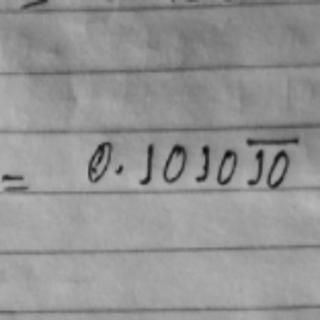.: (111, 164, 126, 178)
0: (87, 140, 111, 181), (215, 150, 240, 187), (267, 150, 290, 190), (162, 146, 185, 184)
1: (139, 142, 161, 192), (194, 144, 215, 185), (252, 150, 263, 186)
